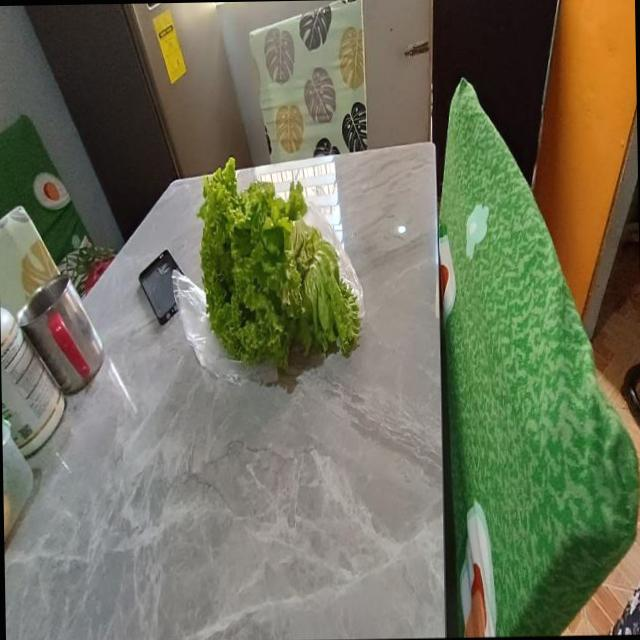Lettuce-Ready-to-Harvest: (198, 159, 359, 369)
